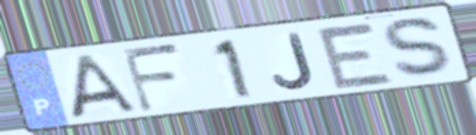1: (209, 37, 255, 101)
A: (69, 52, 139, 121)
E: (311, 21, 398, 91)
F: (118, 42, 185, 115)
J: (270, 30, 319, 92)
S: (380, 15, 461, 81)
